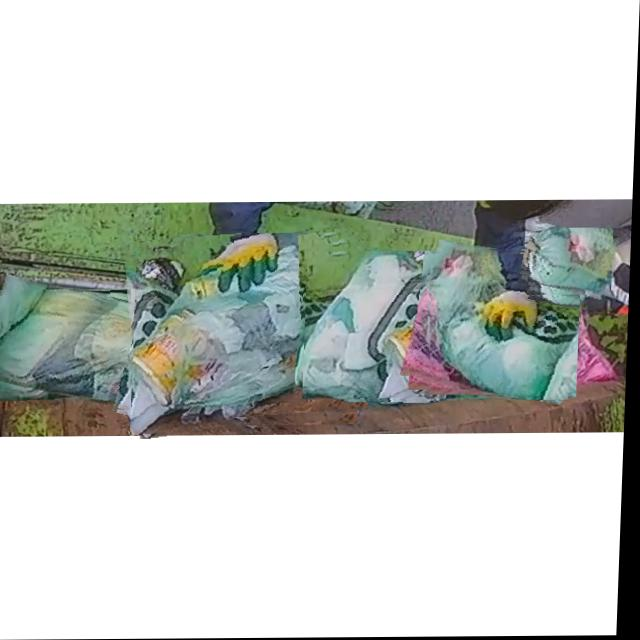general_trashbag: (135, 233, 358, 435), (433, 251, 581, 401), (306, 252, 448, 401), (0, 290, 175, 410), (531, 228, 606, 295)
